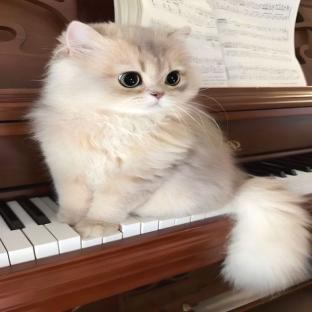Animal: (28, 21, 311, 293)
